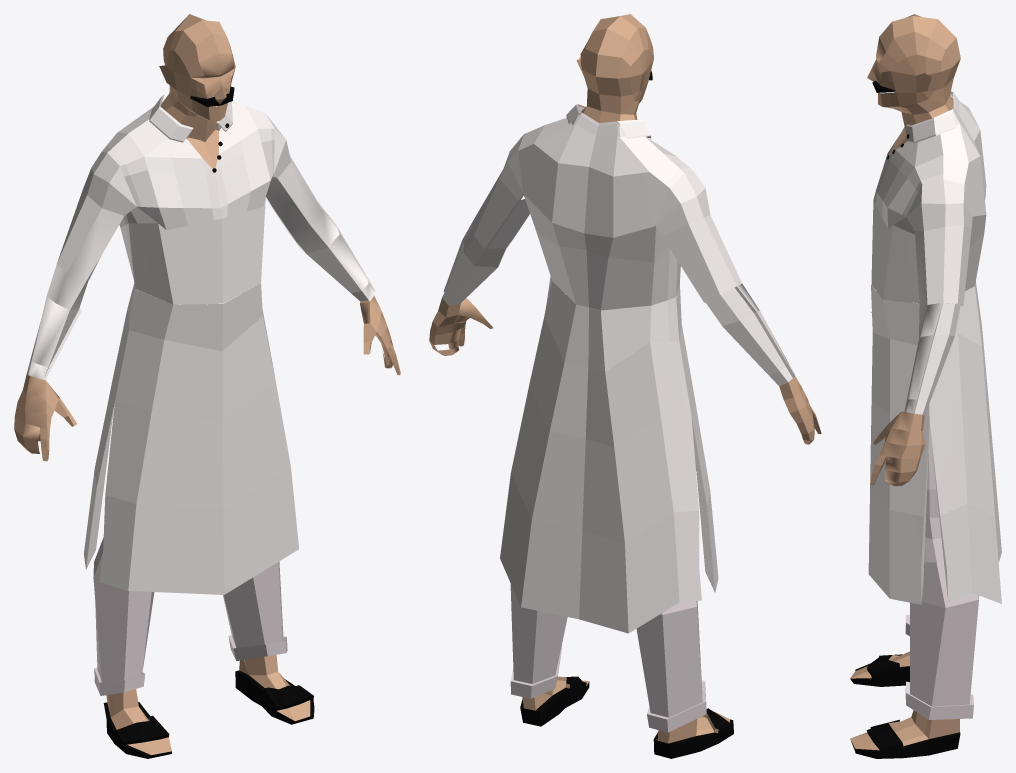
File: player.gltf
The picture shows the model from 3 angles, left to right: view 1: azimuth 30°, elevation 25°; view 2: azimuth 150°, elevation 25°; view 3: azimuth 270°, elevation 25°; orthographic projection.
Parts seen in each view (by area): view 1: Qassai; view 2: Qassai; view 3: Qassai.
Part boxes in pixels (box(x1,y1,x2,y2)): Qassai: box(14, 14, 400, 758); Qassai: box(429, 14, 821, 758); Qassai: box(850, 14, 1001, 758).
Size of the model in its own units: 196 by 350 by 69.07.
